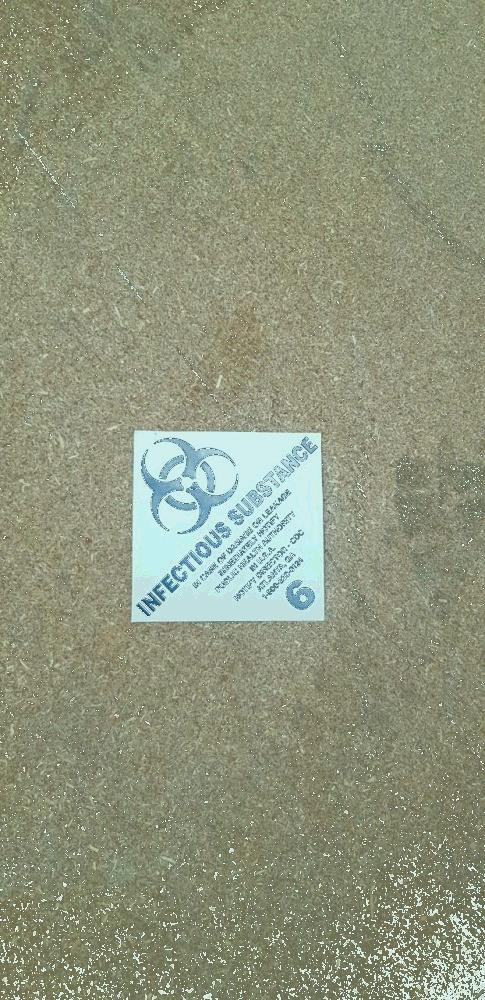infectious-substance: (132, 428, 329, 623)
